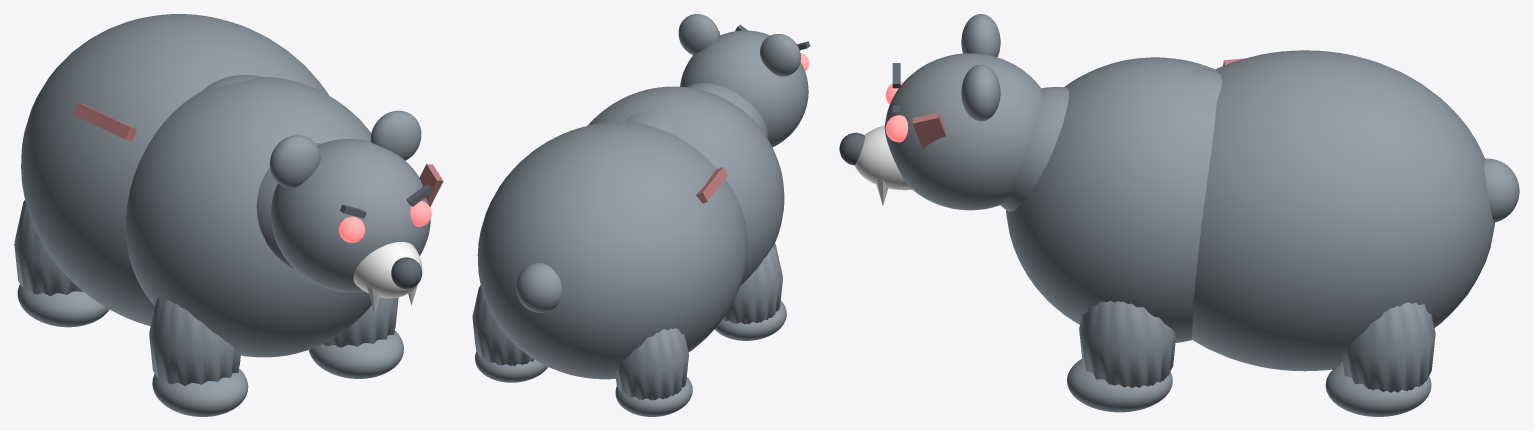
The model's file is bear_t4.glb.
3 renders of one model, left to right at view 1: azimuth 30°, elevation 25°; view 2: azimuth 150°, elevation 25°; view 3: azimuth 270°, elevation 25°, orthographic. The views are drawn at different scales.
Parts seen in each view (by area): view 1: chest, hips, head, leg-0.34-0.4, paw-0.34-0.4, leg-0.380.55, paw0.34-0.4, paw-0.380.55, muzzle, ear-1, leg0.34-0.4, ear1 (+6 smaller); view 2: hips, chest, head, leg-0.380.55, leg-0.34-0.4, leg0.380.55, tail, ear-1, paw-0.380.55, paw-0.34-0.4, ear1, paw0.380.55 (+3 smaller); view 3: hips, chest, head, leg0.34-0.4, leg0.380.55, neck, paw0.34-0.4, paw0.380.55, muzzle, ear1, tail, ear-1 (+3 smaller).
Boxes of the visible parts, bbox=[...] form: chest: bbox=[125, 76, 371, 357]; hips: bbox=[21, 14, 328, 326]; head: bbox=[271, 139, 430, 292]; leg-0.34-0.4: bbox=[149, 298, 240, 385]; paw-0.34-0.4: bbox=[152, 368, 248, 416]; leg-0.380.55: bbox=[14, 199, 83, 296]; paw0.34-0.4: bbox=[308, 330, 403, 378]; paw-0.380.55: bbox=[17, 284, 109, 327]; muzzle: bbox=[353, 242, 422, 298]; ear-1: bbox=[269, 135, 320, 188]; leg0.34-0.4: bbox=[323, 297, 398, 347]; ear1: bbox=[370, 110, 421, 160]; hips: bbox=[477, 122, 747, 379]; chest: bbox=[588, 86, 784, 285]; head: bbox=[680, 30, 808, 147]; leg-0.380.55: bbox=[615, 328, 688, 400]; leg-0.34-0.4: bbox=[722, 244, 782, 324]; leg0.380.55: bbox=[472, 285, 534, 365]; tail: bbox=[516, 263, 561, 312]; ear-1: bbox=[760, 34, 800, 76]; paw-0.380.55: bbox=[615, 377, 692, 416]; paw-0.34-0.4: bbox=[714, 300, 786, 340]; ear1: bbox=[678, 14, 719, 55]; paw0.380.55: bbox=[475, 352, 547, 382]; hips: bbox=[1192, 50, 1494, 371]; chest: bbox=[1006, 57, 1216, 342]; head: bbox=[884, 53, 1042, 210]; leg0.34-0.4: bbox=[1079, 300, 1175, 387]; leg0.380.55: bbox=[1341, 302, 1435, 392]; neck: bbox=[1000, 87, 1068, 211]; paw0.34-0.4: bbox=[1067, 359, 1172, 412]; paw0.380.55: bbox=[1325, 365, 1431, 416]; muzzle: bbox=[854, 125, 912, 190]; ear1: bbox=[961, 64, 1000, 121]; tail: bbox=[1484, 158, 1519, 222]; ear-1: bbox=[961, 14, 1000, 57].
Size of the model in its own units: 1.22 by 1.31 by 2.5.
